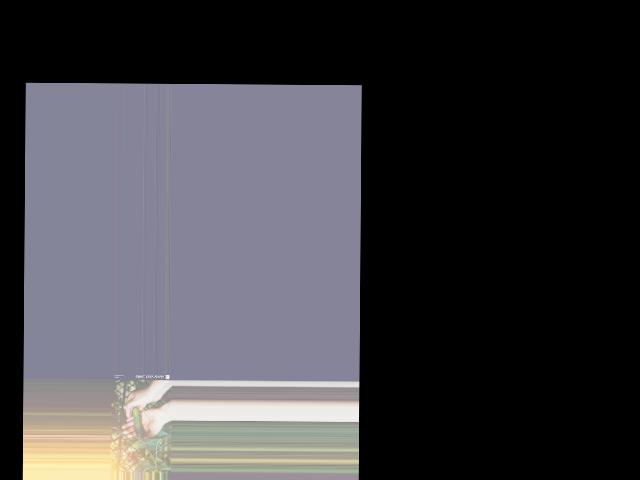cucumber: (132, 407, 143, 437)
